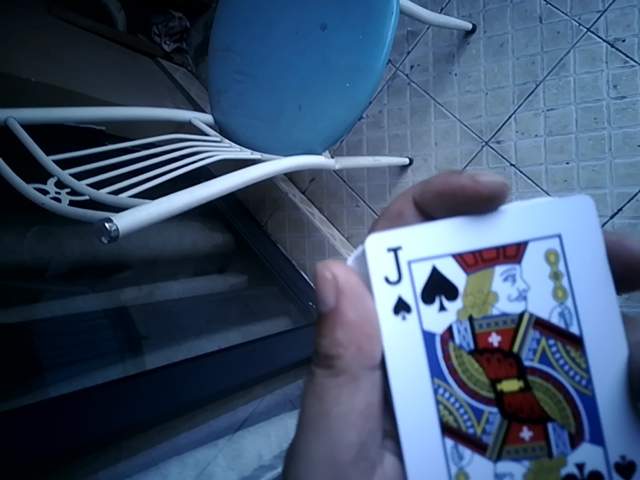ht j: (359, 185, 618, 478)
